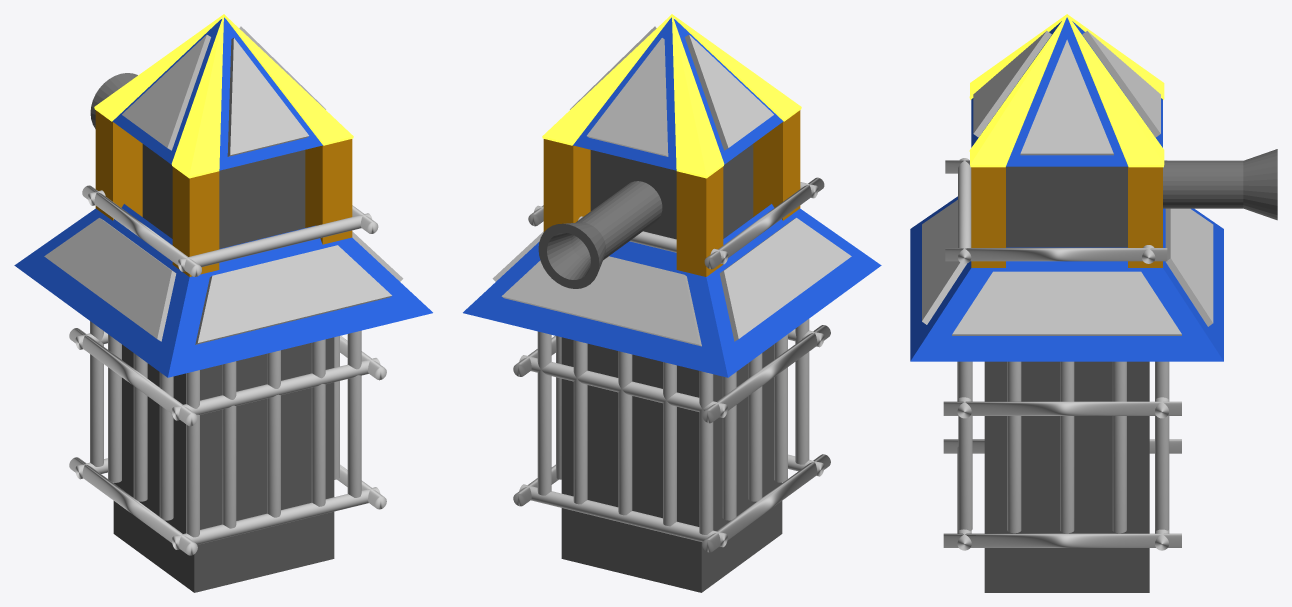
File: Longtower_FullUpgrade.fbx
3 renders of one model, left to right at view 1: azimuth 30°, elevation 25°; view 2: azimuth 150°, elevation 25°; view 3: azimuth 270°, elevation 25°, orthographic. The views are drawn at different scales.
Parts seen in each view (by area): view 1: Cube, Cylinder.002, Cube.001, Cylinder.004, Cylinder.003, Cylinder.001, Cylinder.005, Cylinder; view 2: Cube, Cylinder.002, Cube.001, Cylinder, Cylinder.004, Cylinder.003, Cylinder.001, Cylinder.005; view 3: Cube, Cube.001, Cylinder.004, Cylinder, Cylinder.003, Cylinder.005, Cylinder.002, Cylinder.001.
Boxes of the visible parts, x1,y1,x2,y2 form: Cube: (14, 15, 432, 592); Cylinder.002: (90, 321, 361, 537); Cube.001: (94, 14, 353, 178); Cylinder.004: (108, 334, 339, 520); Cylinder.003: (69, 457, 386, 555); Cylinder.001: (69, 328, 386, 426); Cylinder.005: (82, 185, 378, 276); Cylinder: (90, 73, 137, 128); Cube: (463, 17, 881, 592); Cylinder.002: (537, 319, 809, 534); Cube.001: (542, 14, 801, 178); Cylinder: (538, 181, 662, 288); Cylinder.004: (556, 334, 787, 520); Cylinder.003: (513, 454, 830, 552); Cylinder.001: (513, 325, 830, 423); Cylinder.005: (528, 177, 824, 269); Cube: (910, 14, 1223, 592); Cube.001: (969, 14, 1164, 167); Cylinder.004: (1007, 361, 1126, 533); Cylinder: (1163, 149, 1277, 220); Cylinder.003: (943, 439, 1181, 550); Cylinder.005: (945, 158, 1167, 263); Cylinder.002: (958, 361, 1169, 530); Cylinder.001: (943, 361, 1181, 418).
Bounding box in the file's own units: 380 × 727 × 445.
